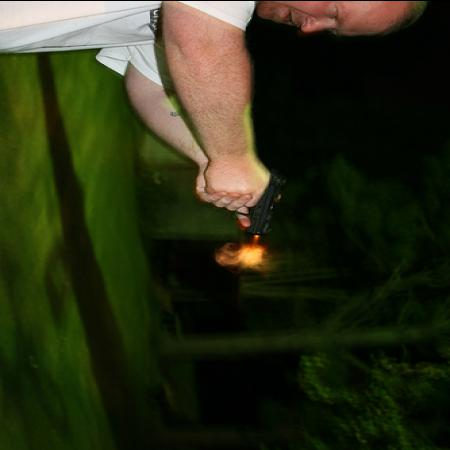Pistol: (234, 167, 290, 237)
